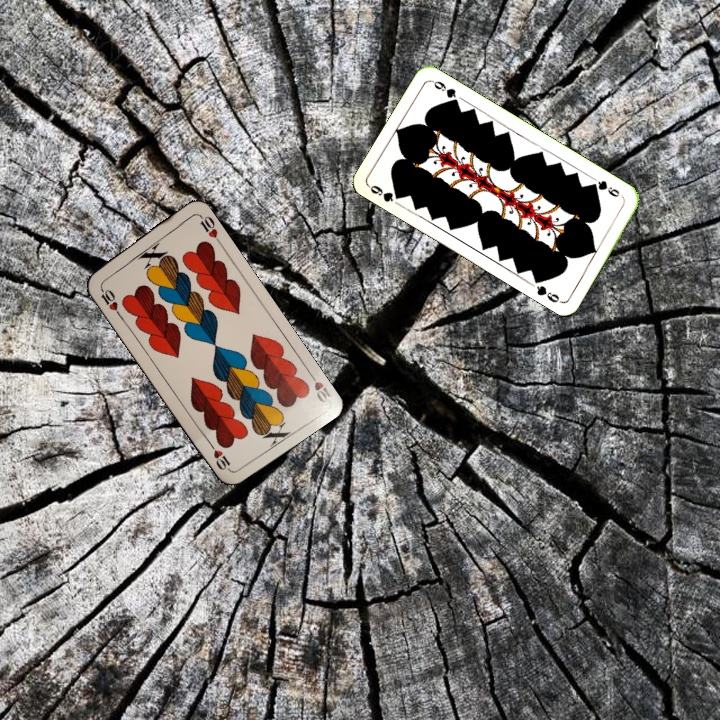G9: (365, 181, 405, 205), (587, 176, 622, 200)
H10: (304, 367, 334, 405), (96, 282, 123, 318)
